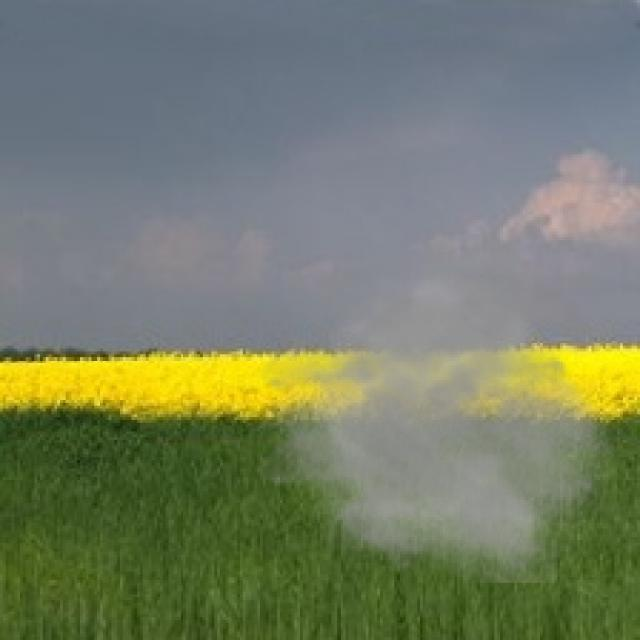Smoke: (254, 240, 626, 583)
